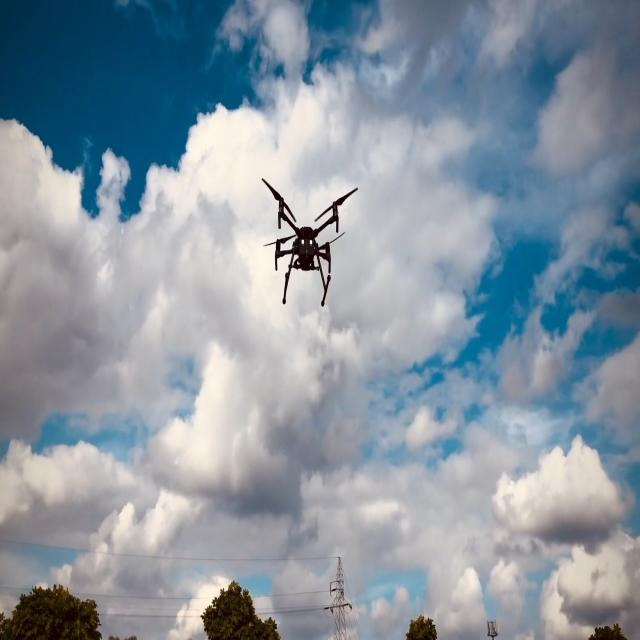drone: (261, 177, 358, 307)
